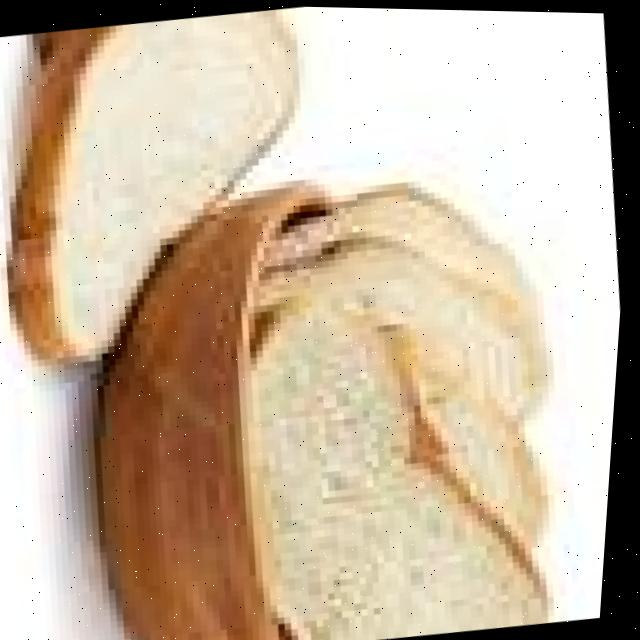Bread: (262, 291, 553, 640), (18, 9, 298, 359)
